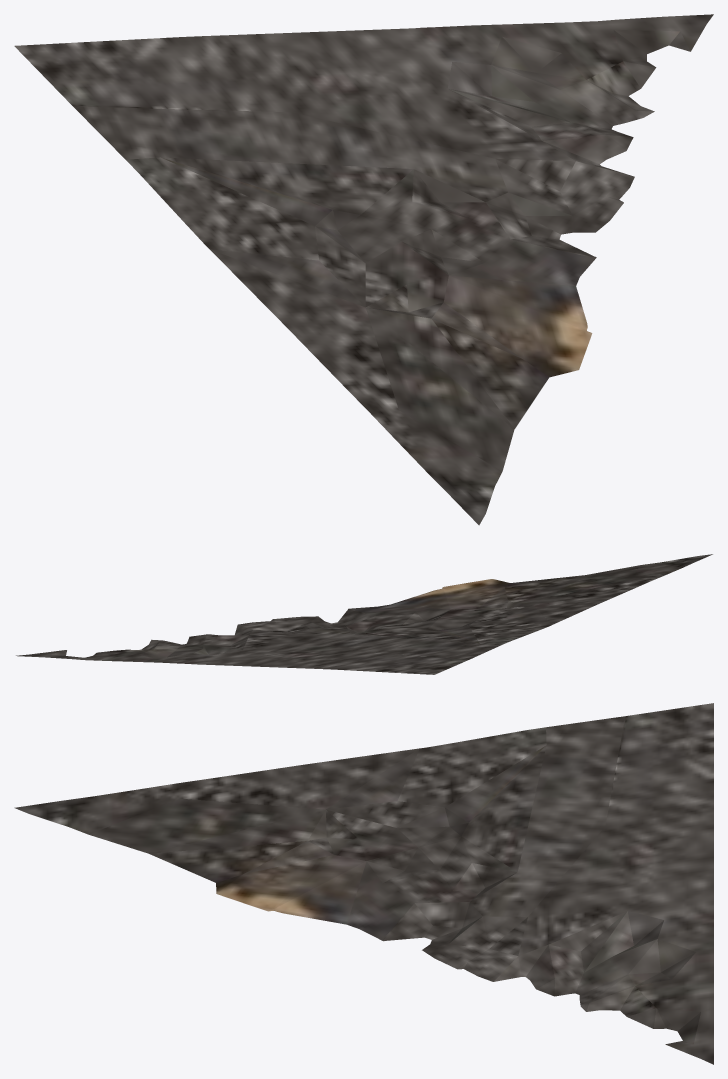
3 renders of one model, top to bottom at view 1: azimuth 30°, elevation 25°; view 2: azimuth 150°, elevation 25°; view 3: azimuth 270°, elevation 25°, orthographic. The views are drawn at different scales.
Size of the model in its own units: 0.4728 by 0.0899 by 0.5441.
Materials: 1 (1 with a texture image).
